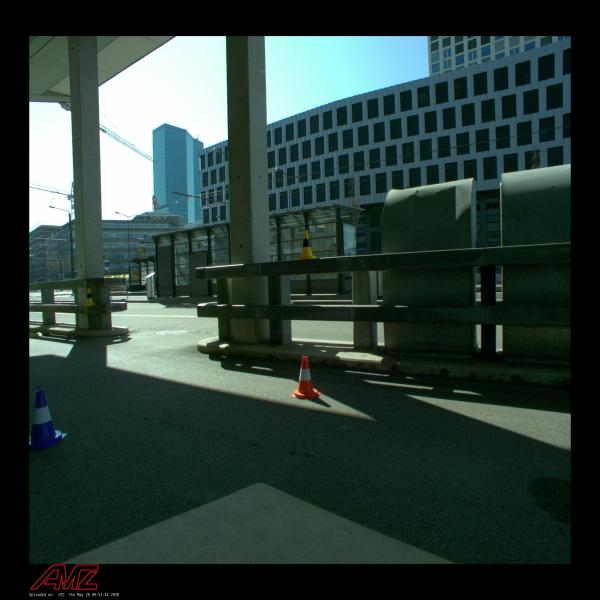blue_cone: (30, 389, 66, 447)
orange_cone: (290, 356, 322, 400)
yellow_cone: (298, 230, 316, 260), (84, 288, 95, 306)
